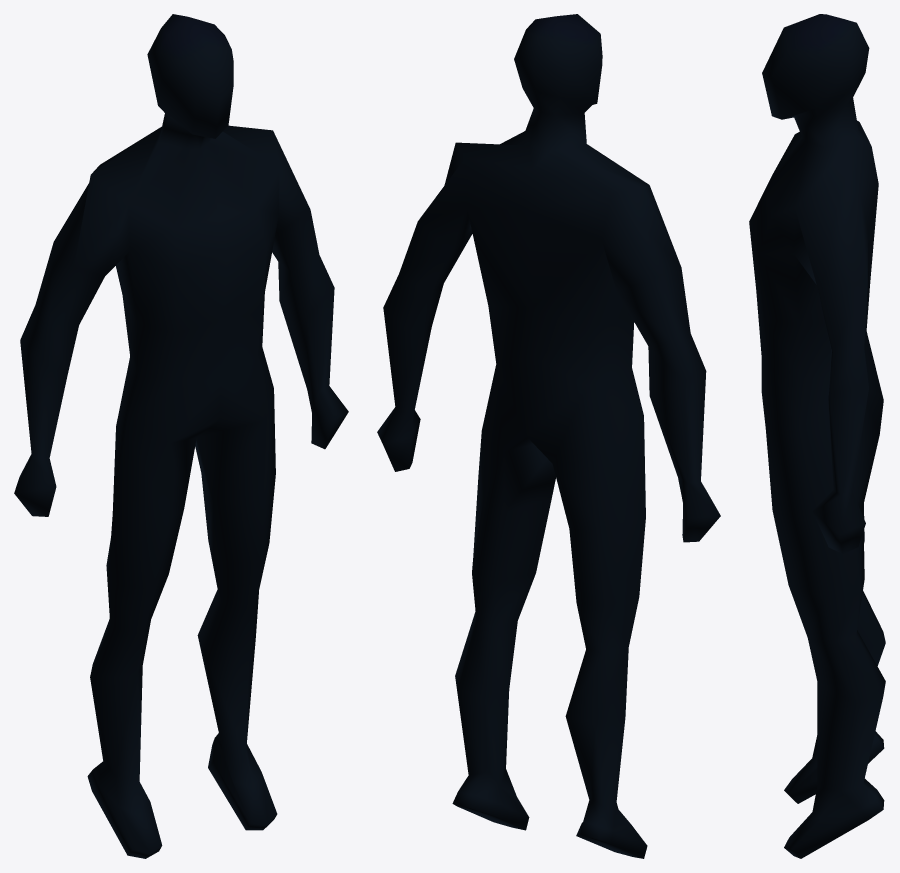
The model's file is humanShadow.fbx.
3 renders of one model, left to right at view 1: azimuth 30°, elevation 25°; view 2: azimuth 150°, elevation 25°; view 3: azimuth 270°, elevation 25°, orthographic. The views are drawn at different scales.
Parts seen in each view (by area): view 1: human; view 2: human; view 3: human.
Boxes of the visible parts, box(x1,y1,x2,y2) form: human: box(14, 14, 348, 858); human: box(377, 14, 720, 858); human: box(749, 14, 885, 858).
Size of the model in its own units: 64.08 by 149 by 22.74.
Materials: 1 (1 with a texture image).
